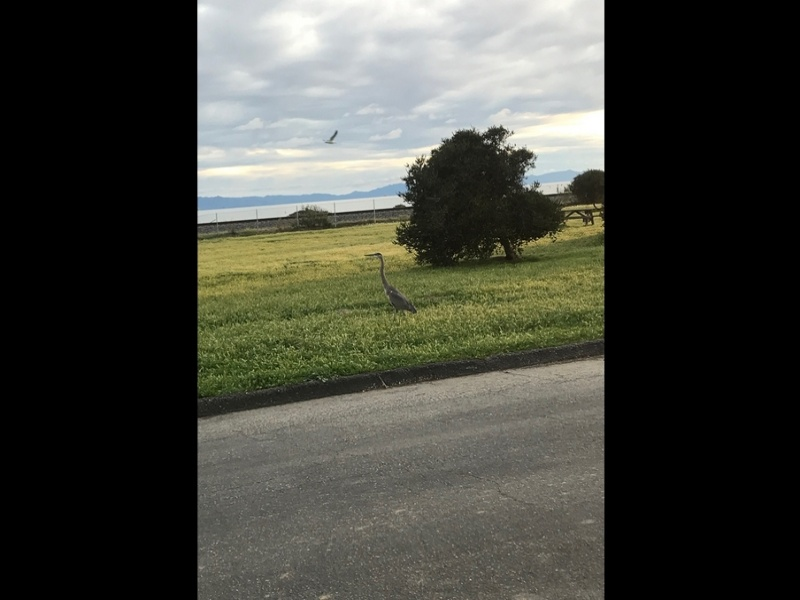heron: (362, 249, 417, 315)
